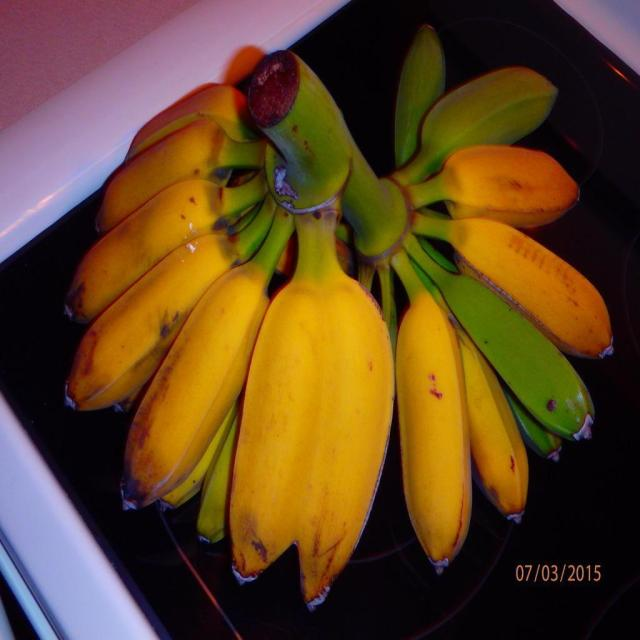banana: (121, 262, 270, 511), (394, 288, 474, 576)
